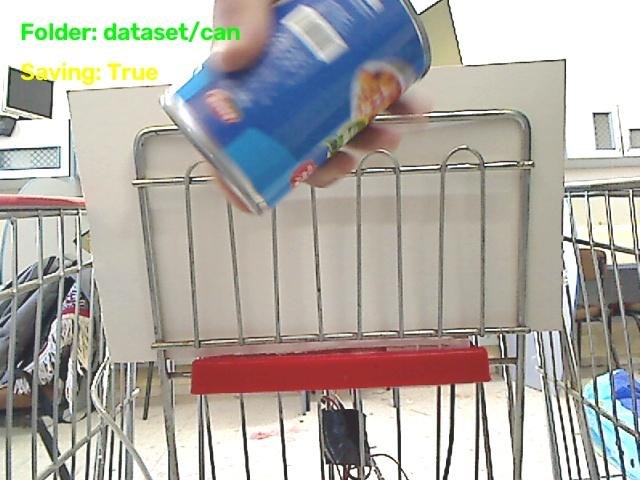can: (161, 0, 430, 212)
